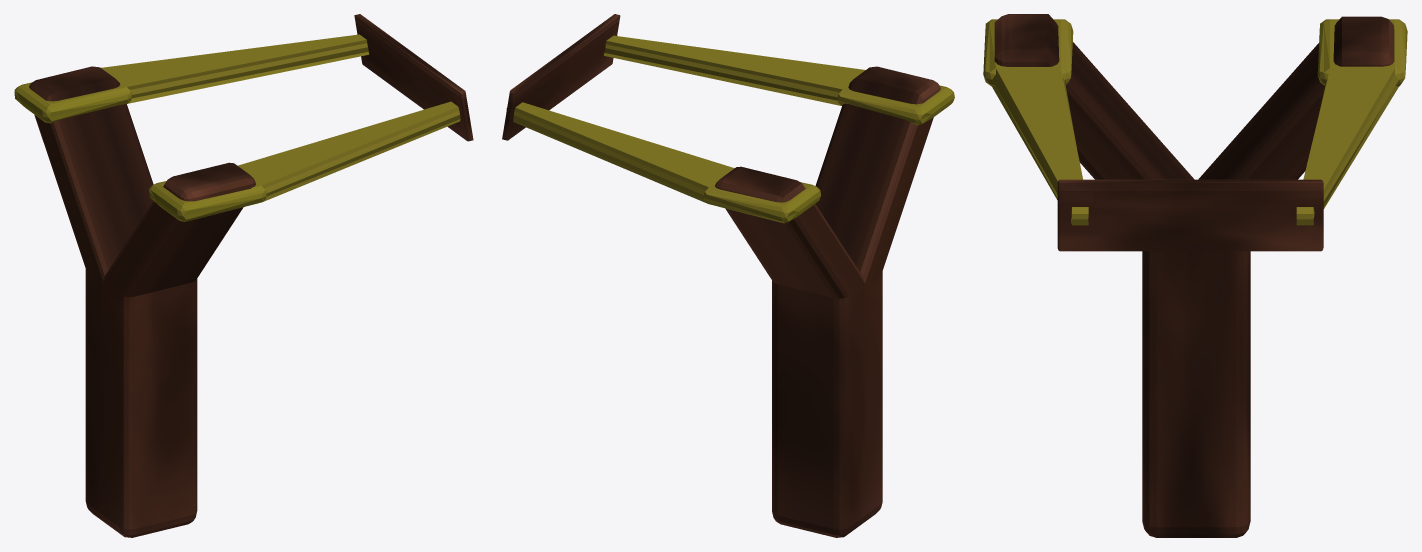
File: estilingue.fbx
3 views of the same model, side by side, from view 1: azimuth 30°, elevation 25°; view 2: azimuth 150°, elevation 25°; view 3: azimuth 270°, elevation 25° (orthographic). The views are drawn at different scales.
Parts seen in each view (by area): view 1: Cubo; view 2: Cubo; view 3: Cubo.
Part boxes in pixels (x1,y1,x2,y2): Cubo: [14, 14, 473, 537]; Cubo: [502, 14, 954, 537]; Cubo: [983, 14, 1407, 537].
Bounding box in the file's own units: 699 × 832 × 640.
